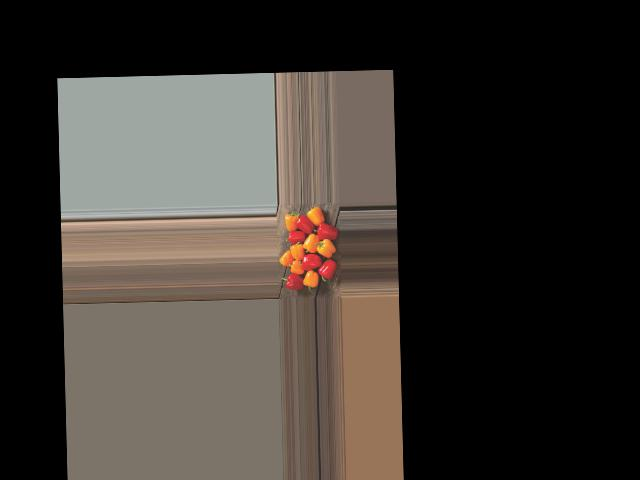bell_pepper: (306, 205, 328, 231)
